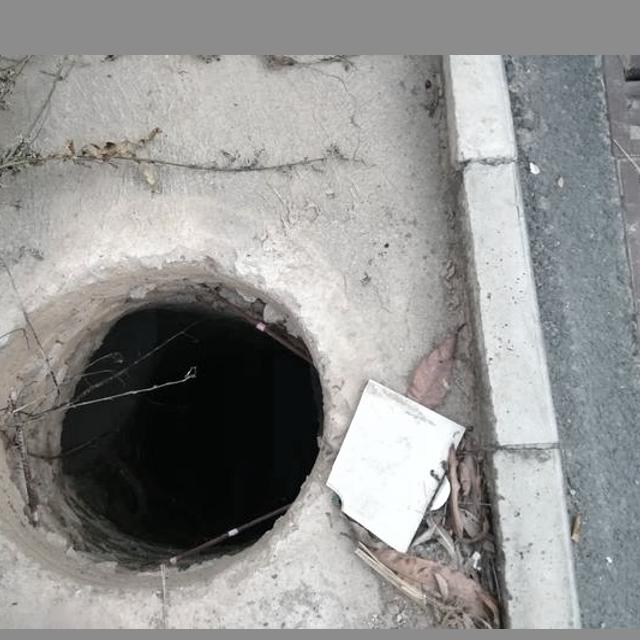lose: (0, 249, 348, 598)
